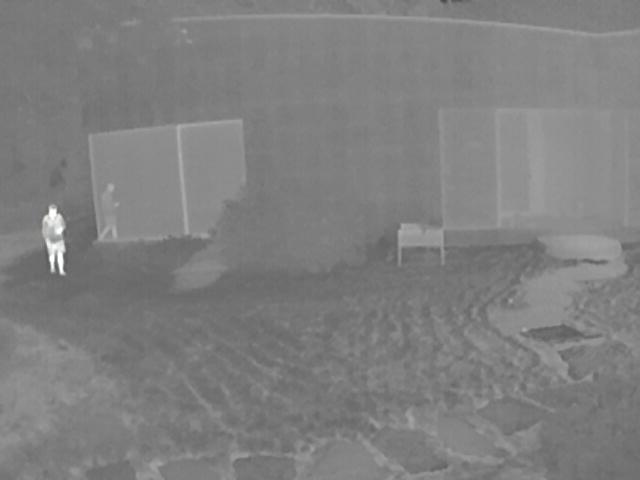person: (44, 204, 67, 280), (101, 181, 121, 242)
